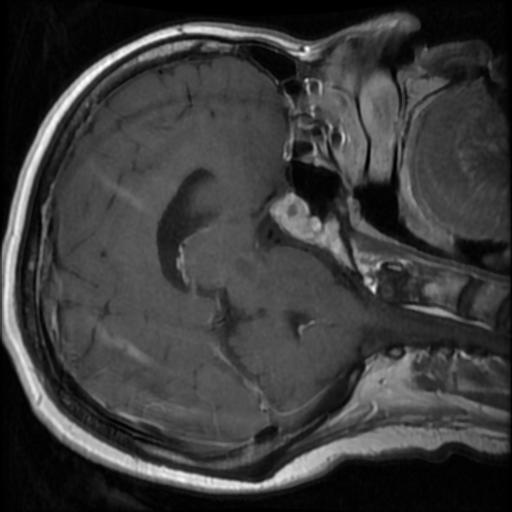pituitary tumour: (269, 193, 310, 228)
